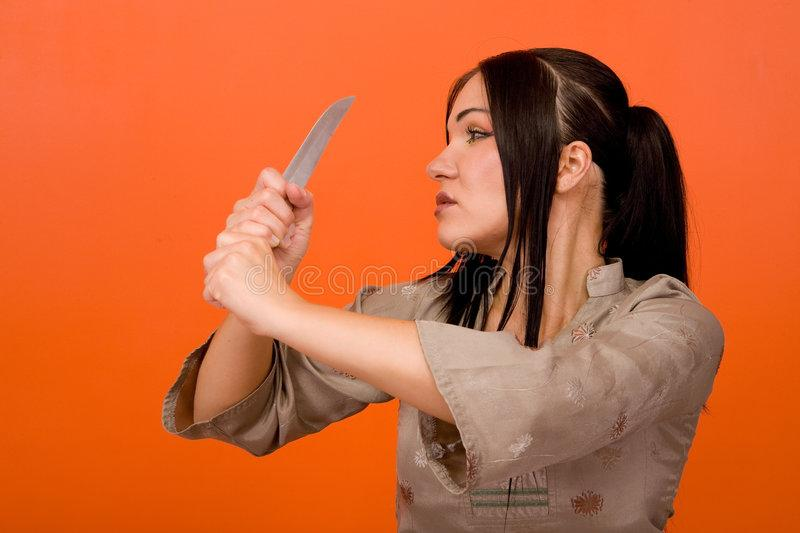criminal: (160, 43, 728, 533)
weapon: (274, 93, 356, 209)
